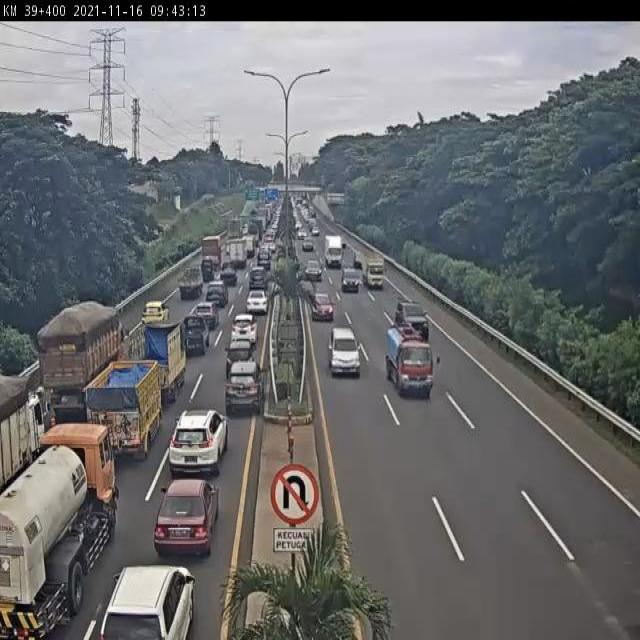car: (97, 564, 195, 640), (152, 476, 219, 560), (167, 408, 229, 475), (224, 360, 265, 417), (328, 325, 363, 376), (177, 315, 211, 357), (394, 300, 429, 340), (224, 340, 255, 379), (137, 302, 168, 334), (229, 313, 258, 344), (311, 292, 333, 323), (245, 288, 269, 316), (193, 302, 217, 330), (205, 280, 229, 305), (339, 267, 362, 292), (218, 260, 238, 287), (248, 268, 269, 291), (304, 260, 324, 281)
small truck: (386, 331, 433, 396), (361, 251, 387, 293), (178, 267, 204, 297)
truck-l-: (0, 417, 124, 640), (34, 300, 126, 423), (0, 369, 51, 491)
truck-m-: (87, 360, 163, 460), (128, 322, 193, 407)
